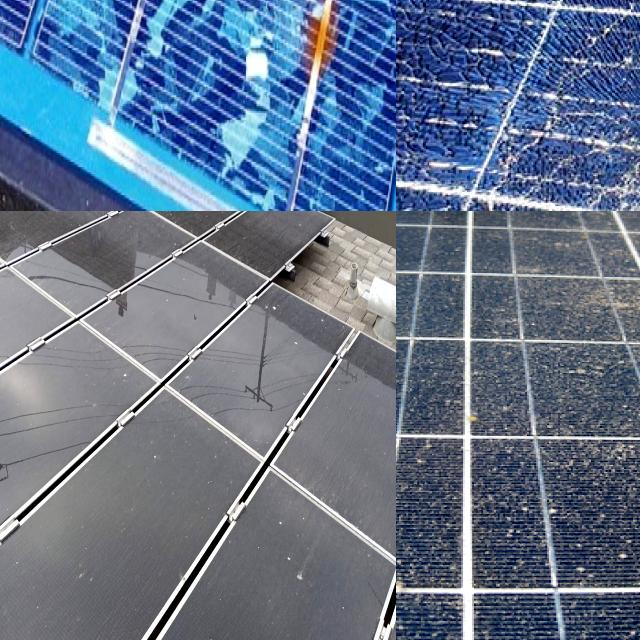dust: (464, 442, 640, 585), (0, 344, 131, 493), (18, 528, 143, 640), (396, 344, 559, 428), (262, 511, 352, 640), (168, 389, 248, 513), (396, 434, 461, 580), (345, 342, 396, 498), (397, 593, 561, 640), (503, 281, 640, 337), (502, 222, 640, 273), (0, 415, 34, 548), (53, 211, 129, 263), (484, 211, 640, 236), (396, 274, 471, 326), (396, 586, 468, 640)
hotspot: (396, 0, 605, 167)
shadow: (300, 0, 350, 93), (131, 0, 189, 76), (331, 0, 396, 54)
